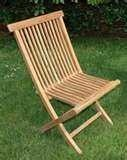obstacle: (7, 11, 119, 153)
